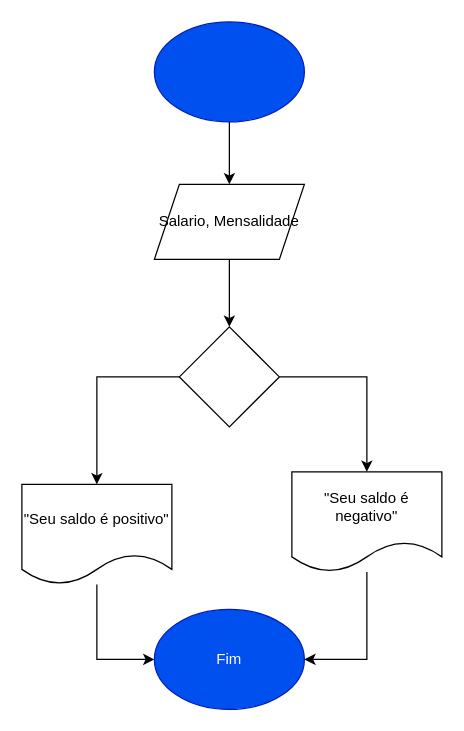
Image size: 464x731. Some labels were removed from this diagram. Each missing label, with the box of its shape:
Inicio: (153, 21, 304, 122)
Salario<Mensalidade: (178, 326, 279, 427)
